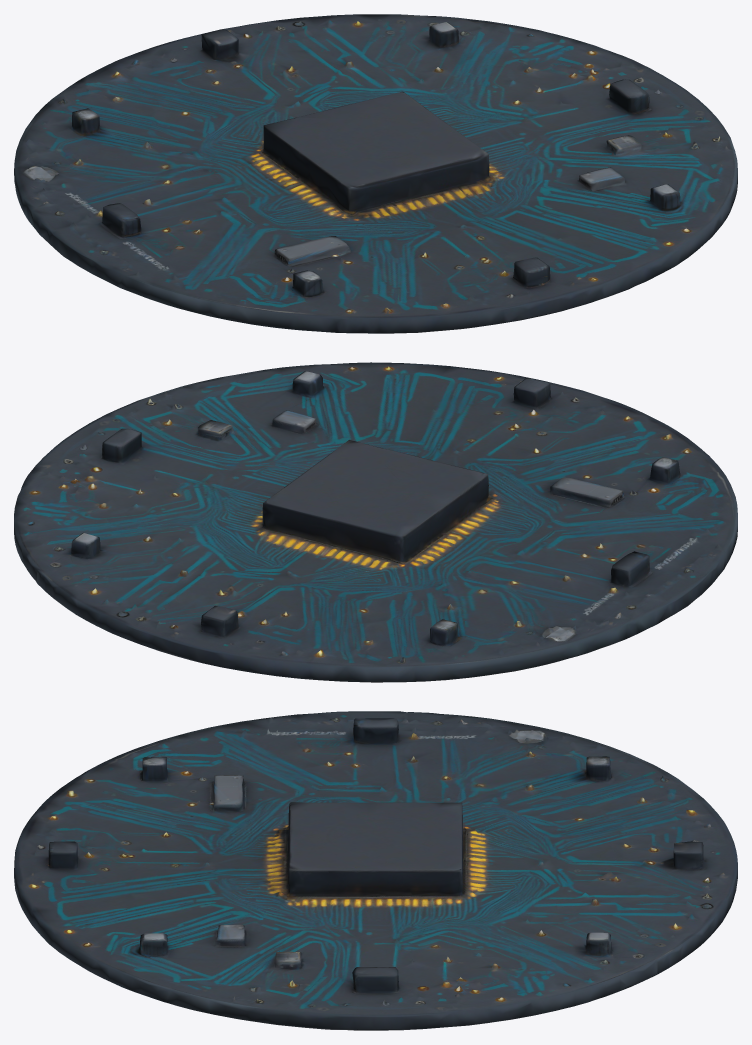
Rendered from Circuit.glb.
3 renders of one model, top to bottom at view 1: azimuth 30°, elevation 25°; view 2: azimuth 150°, elevation 25°; view 3: azimuth 270°, elevation 25°, orthographic.
Size of the model in its own units: 2 by 0.1413 by 2.
1 material, 1 textured.
